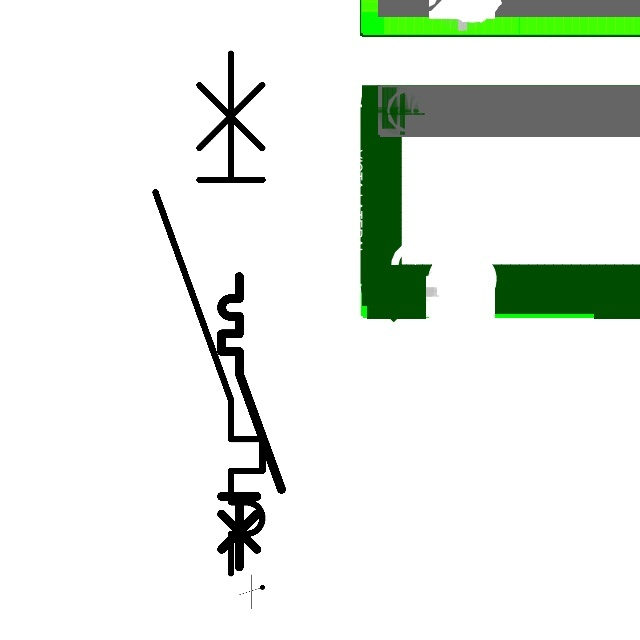interruptor_termomagnetico: (142, 40, 276, 587), (214, 269, 288, 574)
